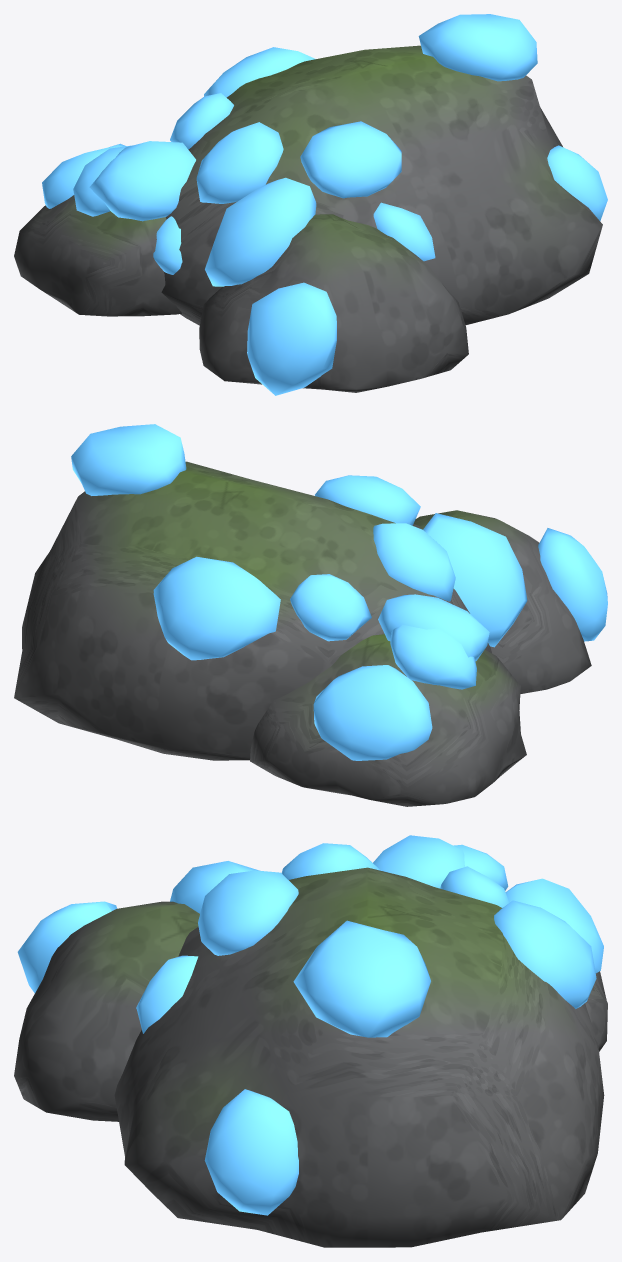
The model's file is ore_mithril_cluster.glb.
3 renders of one model, top to bottom at view 1: azimuth 30°, elevation 25°; view 2: azimuth 150°, elevation 25°; view 3: azimuth 270°, elevation 25°, orthographic. The views are drawn at different scales.
Visible parts, largest first — view 1: ore_mithril_stone, ore_mithril; view 2: ore_mithril_stone, ore_mithril; view 3: ore_mithril_stone, ore_mithril.
Part boxes in pixels (left/top/right/bottom): ore_mithril_stone: left=14, top=45, right=602, bottom=392; ore_mithril: left=42, top=14, right=607, bottom=395; ore_mithril_stone: left=14, top=461, right=591, bottom=806; ore_mithril: left=71, top=424, right=607, bottom=760; ore_mithril_stone: left=14, top=867, right=607, bottom=1247; ore_mithril: left=17, top=835, right=603, bottom=1215.
Bounding box in the file's own units: 1.92 × 0.8487 × 1.67.
2 materials, 1 textured.
